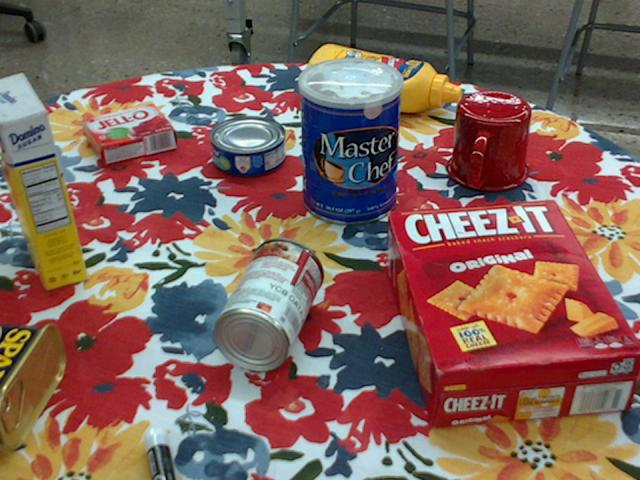cracker_box: (385, 200, 639, 429)
gelatin_box: (82, 106, 175, 167)
large_marker: (142, 426, 175, 479)
master_chef_can: (299, 58, 403, 226)
mug: (445, 92, 531, 193)
mustard_bottle: (304, 44, 460, 112)
potted_meat_can: (0, 321, 65, 446)
sugar_box: (0, 71, 86, 289)
tomato_soup_can: (213, 238, 322, 372)
tuna_fish_can: (208, 117, 284, 177)
